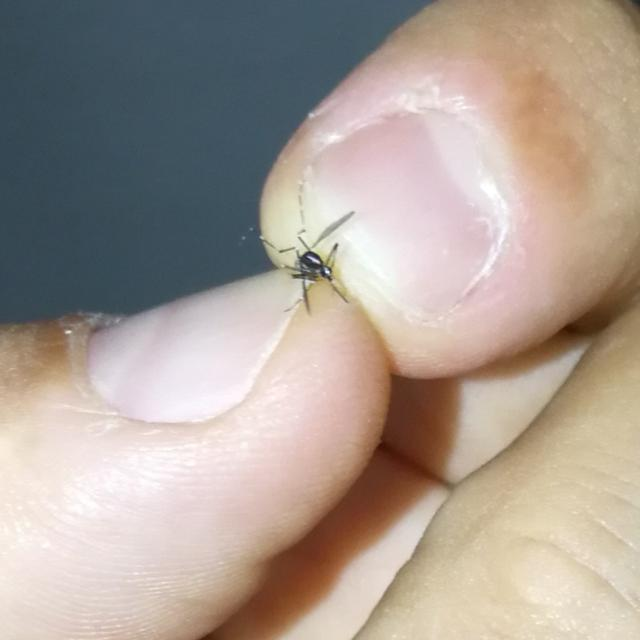albopictus: (247, 175, 358, 322)
